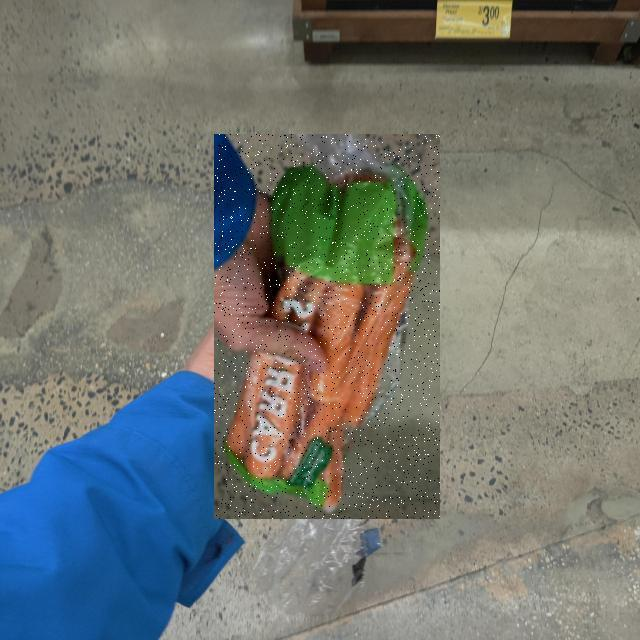Carrot: (214, 134, 440, 519)
